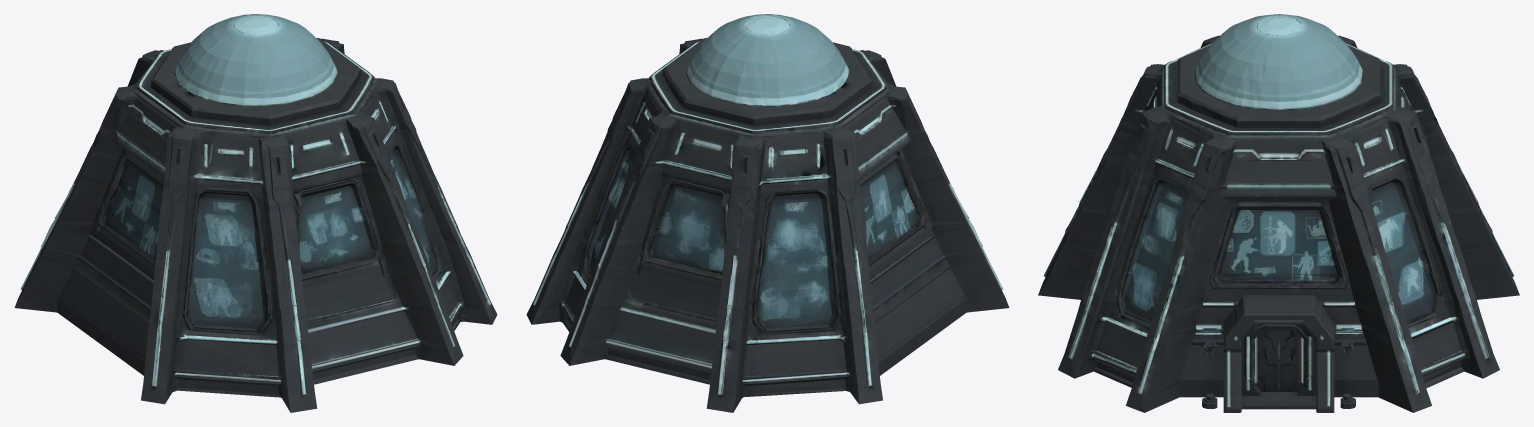
The model's file is ops_center_LOD0.glb.
3 renders of one model, left to right at view 1: azimuth 30°, elevation 25°; view 2: azimuth 150°, elevation 25°; view 3: azimuth 270°, elevation 25°, orthographic. The views are drawn at different scales.
Visible parts, largest first — view 1: ops_center_LOD0; view 2: ops_center_LOD0; view 3: ops_center_LOD0.
Boxes of the visible parts, box(x1,y1,x2,y2) form: ops_center_LOD0: box(14, 14, 497, 412); ops_center_LOD0: box(526, 14, 1009, 412); ops_center_LOD0: box(1038, 14, 1519, 412).
Size of the model in its own units: 0.88 by 0.6799 by 0.9927.
1 material, 1 textured.
